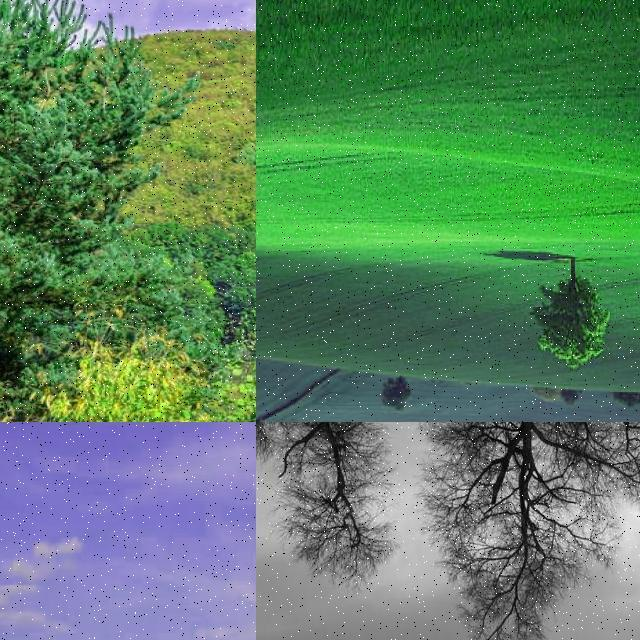tree: (0, 0, 200, 378), (403, 422, 640, 640), (256, 422, 399, 630), (0, 462, 78, 640), (529, 258, 611, 368), (256, 328, 276, 408), (382, 371, 414, 412), (611, 389, 640, 410)
